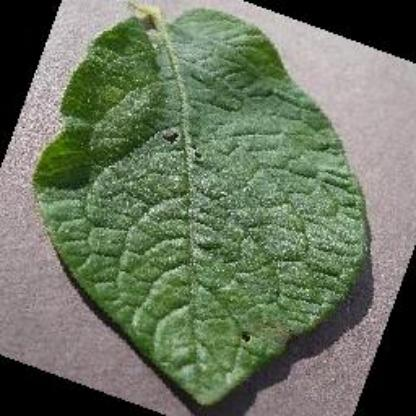Healthy-plant: (32, 7, 376, 411)
